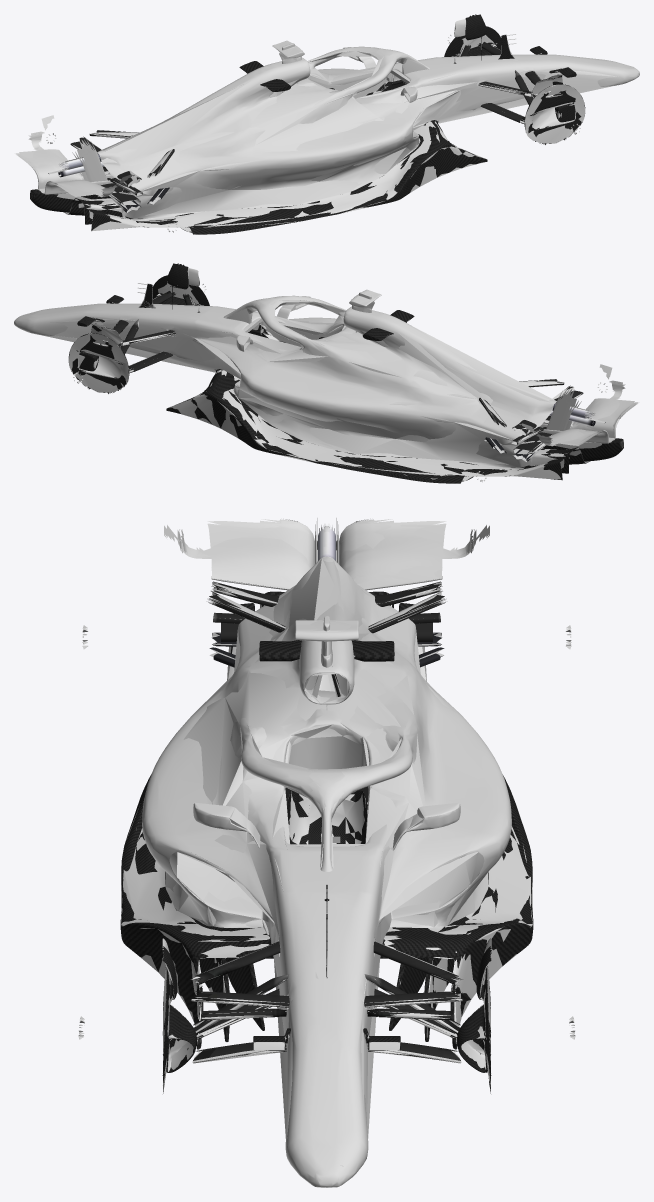
The model's file is car-f1.glb.
The picture shows the model from 3 angles, top to bottom: view 1: azimuth 30°, elevation 25°; view 2: azimuth 150°, elevation 25°; view 3: azimuth 270°, elevation 25°; orthographic projection. The views are drawn at different scales.
Parts seen in each view (by area): view 1: paint, far_paint, far_dark, carbon, generic, black, ductR, ductL, tcam, chrome; view 2: paint, far_paint, far_dark, carbon, generic, black, ductL, ductR, chrome, tcam; view 3: paint, far_paint, far_dark, carbon, generic, black, ductL, ductR, tcam, strut.
Boxes of the visible parts, box(x1,y1,x2,y2) form: paint: box(46, 35, 639, 232); far_paint: box(97, 48, 619, 216); far_dark: box(15, 19, 585, 234); carbon: box(30, 35, 576, 234); generic: box(30, 44, 541, 213); black: box(19, 115, 134, 197); ductR: box(511, 74, 585, 144); ductL: box(444, 14, 501, 56); tcam: box(272, 40, 304, 63); chrome: box(72, 34, 516, 181); paint: box(14, 284, 607, 481); far_paint: box(31, 300, 556, 465); far_dark: box(68, 268, 638, 481); carbon: box(77, 284, 623, 483); generic: box(112, 293, 623, 461); black: box(290, 328, 633, 446); ductL: box(68, 323, 142, 393); ductR: box(152, 263, 209, 305); chrome: box(137, 283, 581, 430); tcam: box(349, 289, 381, 312); paint: box(78, 556, 575, 1187); far_paint: box(165, 558, 488, 1143); far_dark: box(121, 519, 532, 1090); carbon: box(120, 541, 533, 1049); generic: box(202, 525, 451, 1060); black: box(164, 519, 489, 746); ductL: box(433, 943, 491, 1093); ductR: box(162, 944, 220, 1093); tcam: box(295, 616, 358, 667); strut: box(307, 768, 346, 815).
Size of the model in its own units: 5.13 by 1.08 by 1.82.
Materials: 3 (2 with a texture image).
